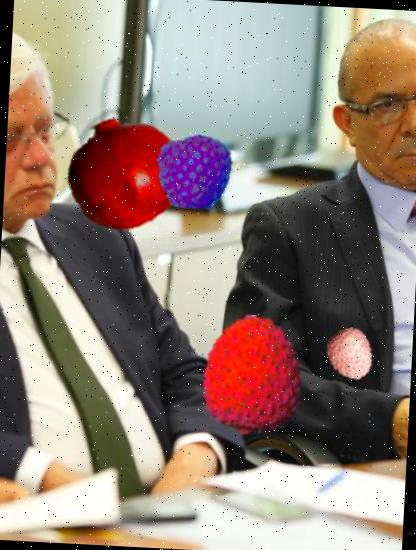Lychee: (190, 312, 316, 438), (322, 327, 378, 382)
Pomegranate: (63, 111, 186, 234)
Raspberry: (154, 131, 235, 212)
